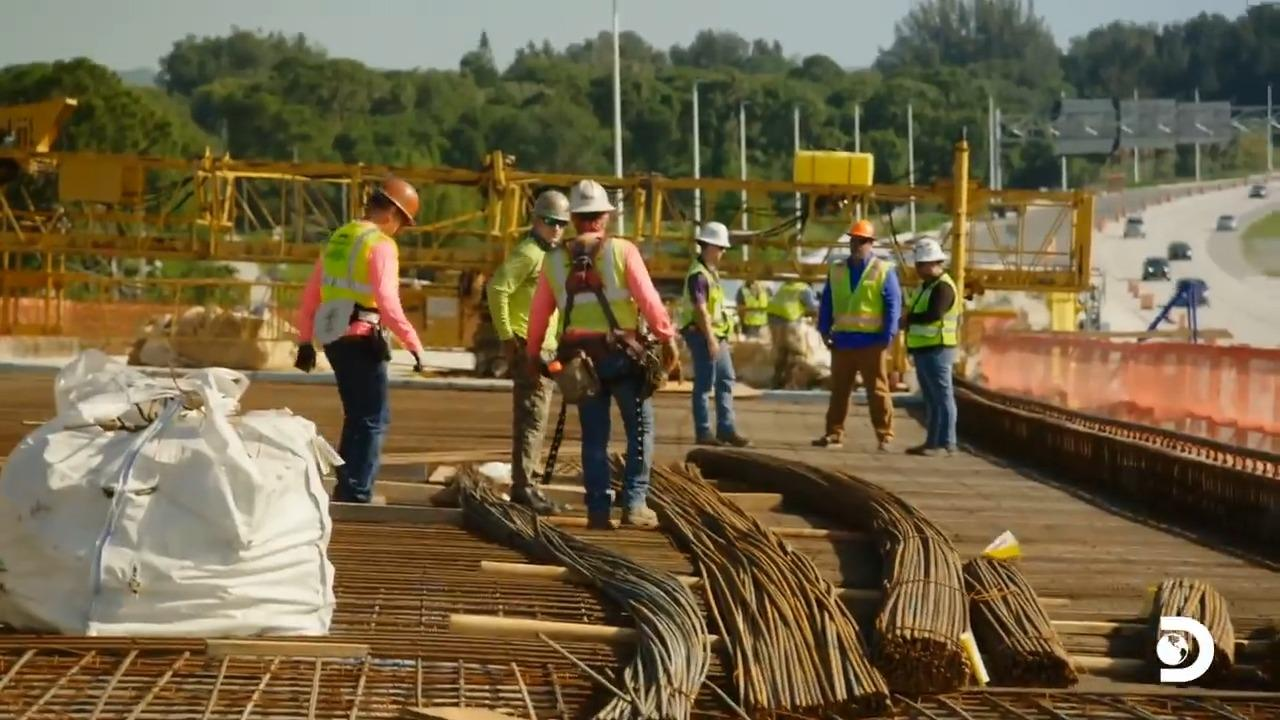Gloves: (295, 345, 320, 373), (406, 346, 432, 372), (659, 341, 681, 371)
Helmet: (377, 177, 419, 225), (568, 179, 615, 213), (532, 189, 571, 222), (694, 221, 731, 248), (913, 238, 946, 263), (846, 219, 876, 239)
Person: (524, 178, 678, 531), (292, 176, 425, 503), (485, 189, 573, 515), (811, 219, 902, 452), (675, 220, 751, 447), (898, 237, 963, 456)
Safety Boot: (511, 486, 552, 515), (623, 504, 663, 527), (714, 428, 754, 449), (338, 490, 393, 502), (916, 442, 952, 458), (587, 510, 611, 532), (813, 432, 840, 449), (693, 429, 716, 448), (877, 436, 889, 450)
Safety Vest: (558, 248, 640, 327), (327, 230, 379, 310), (831, 264, 882, 331), (506, 255, 545, 329), (684, 272, 725, 329), (918, 292, 962, 344)
bare-arms: (497, 332, 516, 358), (705, 337, 721, 358)
